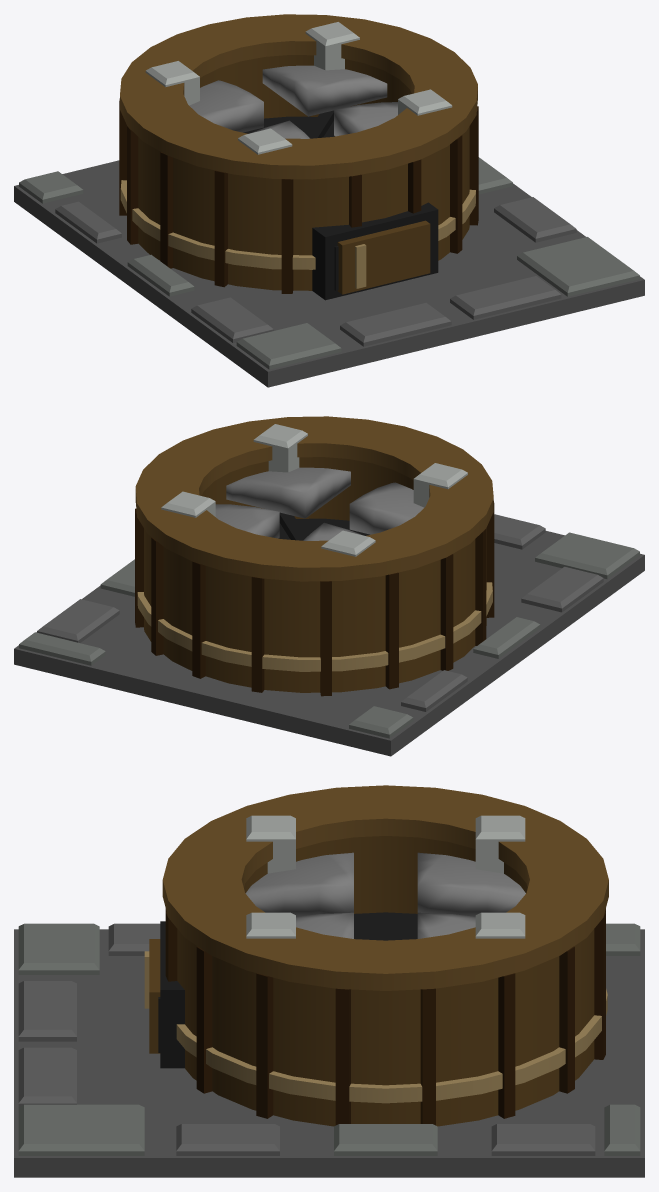
The model's file is newshd-169-f3.glb.
The picture shows the model from 3 angles, top to bottom: view 1: azimuth 30°, elevation 25°; view 2: azimuth 150°, elevation 25°; view 3: azimuth 270°, elevation 25°; orthographic projection. The views are drawn at different scales.
Parts seen in each view (by area): view 1: newshd-169-f3; view 2: newshd-169-f3; view 3: newshd-169-f3.
Part boxes in pixels (x1,y1,x2,y2): newshd-169-f3: [14, 14, 644, 387]; newshd-169-f3: [14, 416, 644, 756]; newshd-169-f3: [14, 785, 644, 1177].
Size of the model in its own units: 2 by 0.76 by 2.33.
